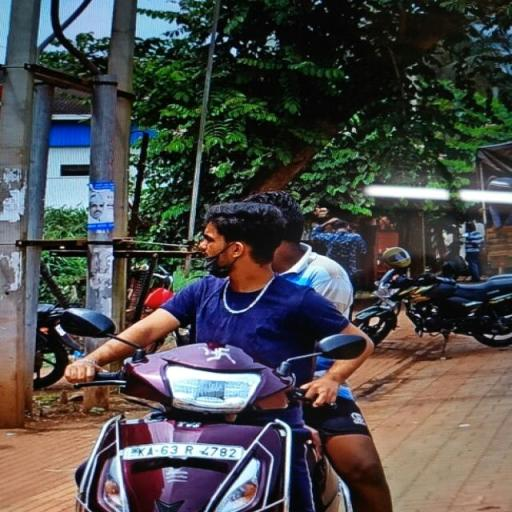bike: (41, 189, 397, 512)
numberplate: (119, 442, 249, 464)
withouthelmet: (204, 204, 278, 274), (251, 193, 303, 239)
